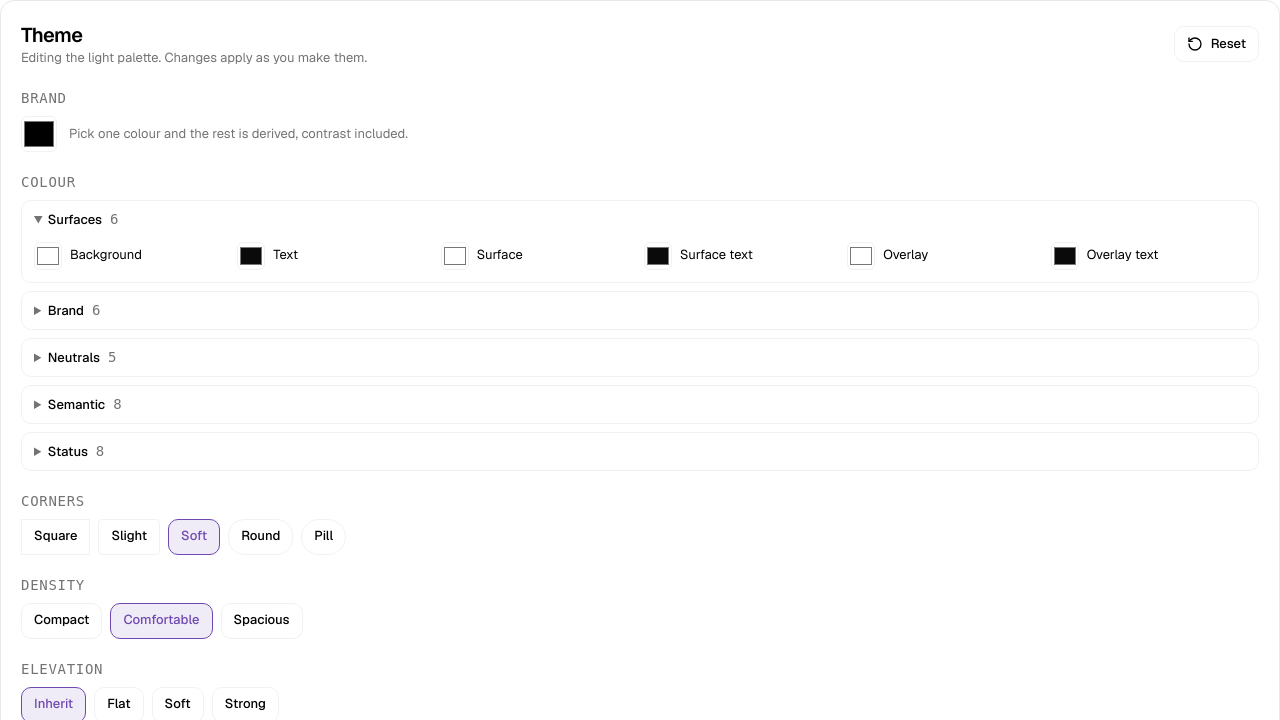
Scenario: ThemeEditor › resets back to the theme it opened on
Type "#fefefe" into the colour field labelled "Text" at point(251, 256), box [237,242,265,270]
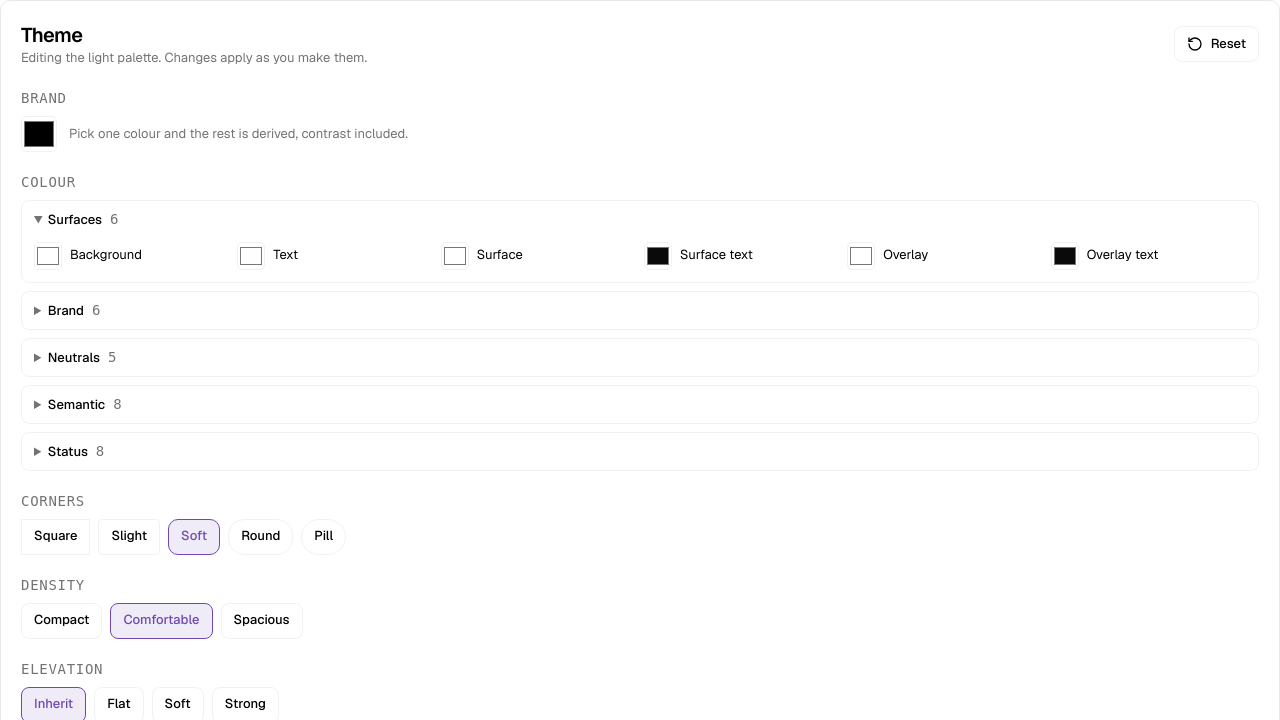
Click the button "Reset" at point(1216, 44), box [1174,26,1259,62]
(page scrolled)
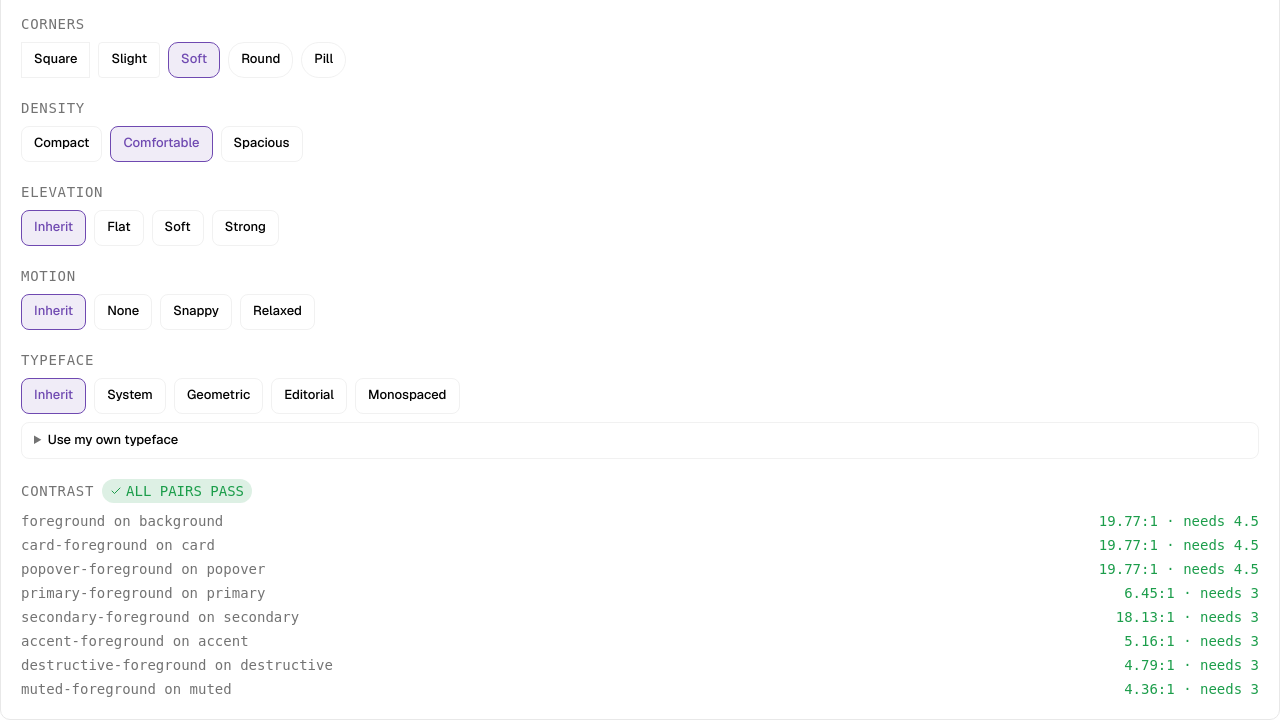
Check: the text "All pairs pass" is shown, box [102,479,252,503]
